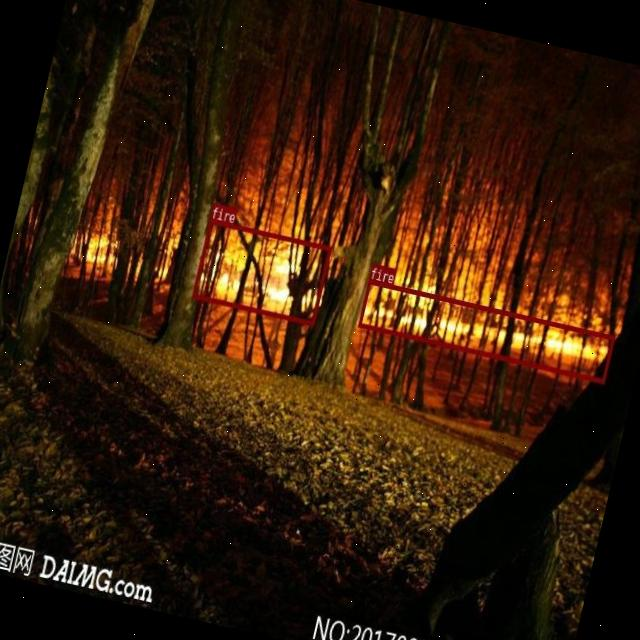fire: (358, 278, 614, 382), (191, 218, 331, 324)
